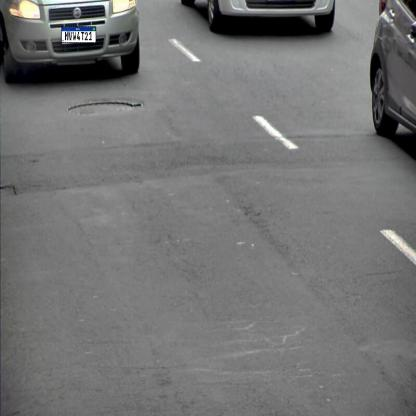PlacaM: (61, 26, 96, 43)
